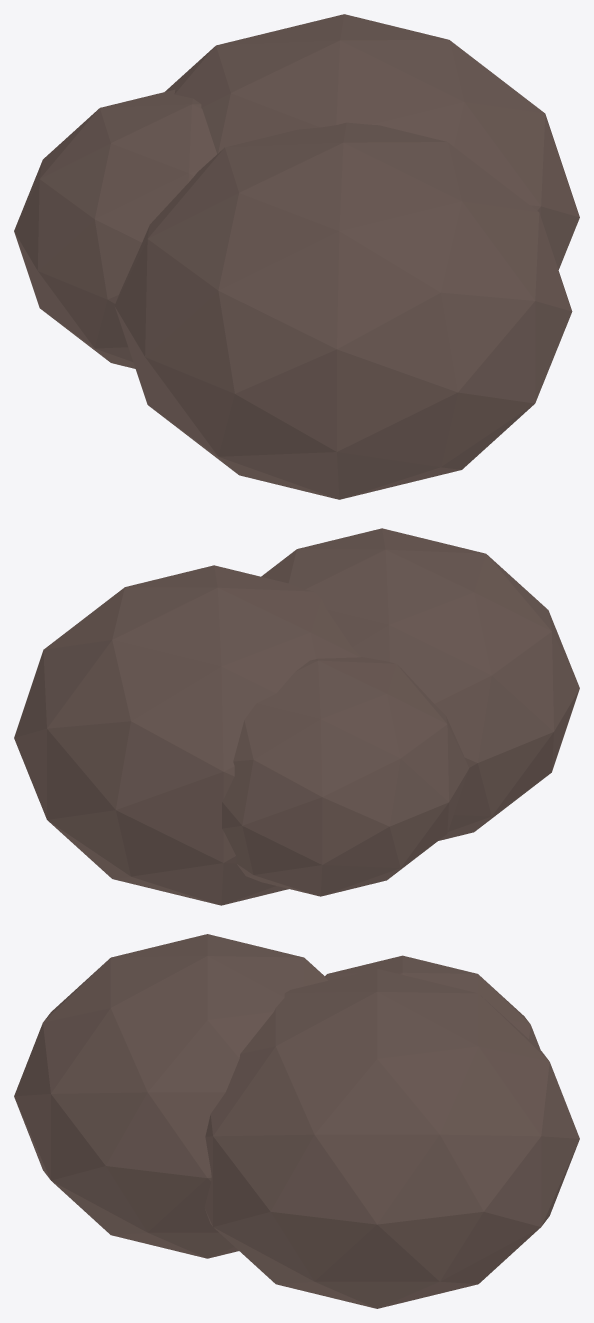
File: bush_0_9.ol.glb
The picture shows the model from 3 angles, top to bottom: view 1: azimuth 30°, elevation 25°; view 2: azimuth 150°, elevation 25°; view 3: azimuth 270°, elevation 25°; orthographic projection. The views are drawn at different scales.
Size of the model in its own units: 1.95 by 1.29 by 2.25.
